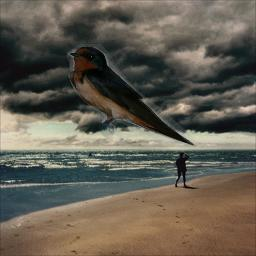Swallow: (66, 44, 197, 148)
